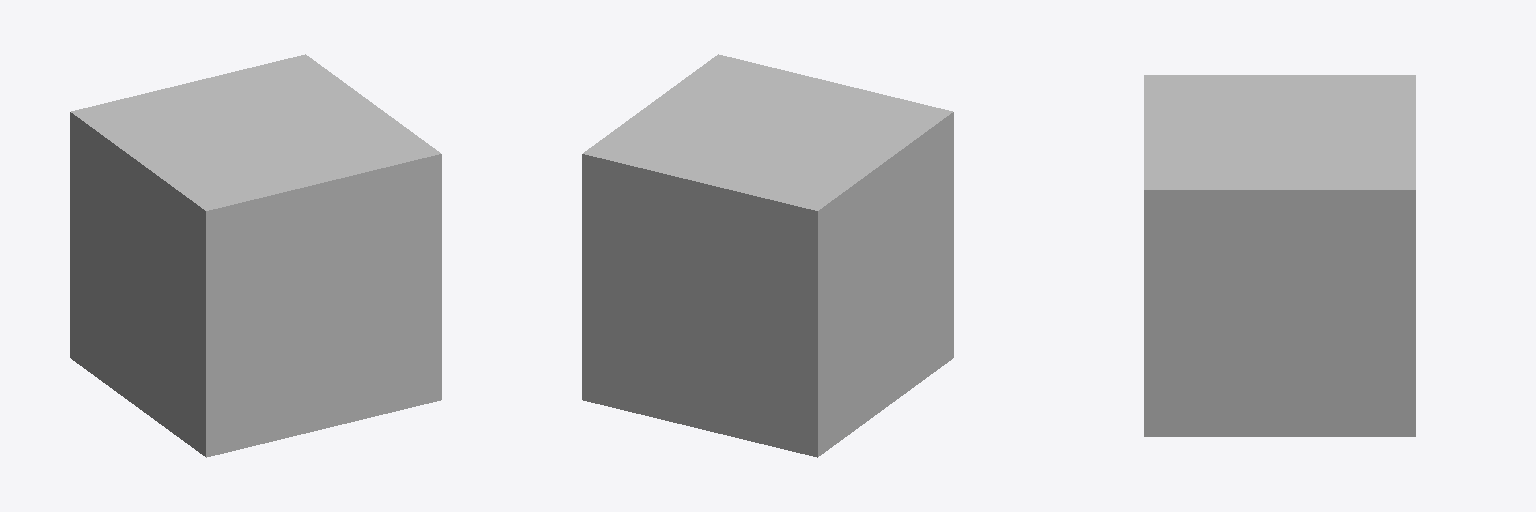
File: cubes_wall11.obj
3 views of the same model, side by side, from view 1: azimuth 30°, elevation 25°; view 2: azimuth 150°, elevation 25°; view 3: azimuth 270°, elevation 25° (orthographic).
Bounding box in the file's own units: 0.1 × 0.1 × 0.1.